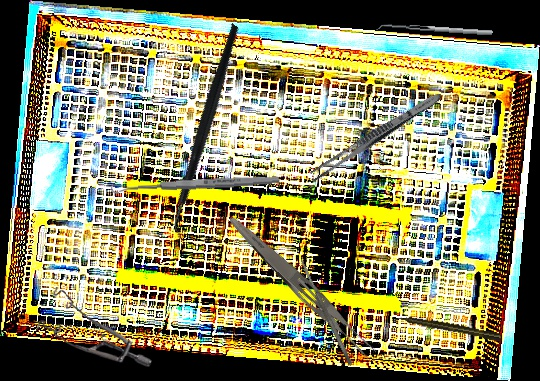Chopper: (109, 23, 307, 242)
Dressing Forceps: (220, 211, 382, 365), (308, 88, 444, 185)
Handpiece: (393, 312, 503, 343)
Spatula Surgical: (298, 257, 354, 367), (376, 22, 493, 40)
Speculum: (34, 286, 154, 368)
Surgical Spoon: (110, 174, 281, 194)
